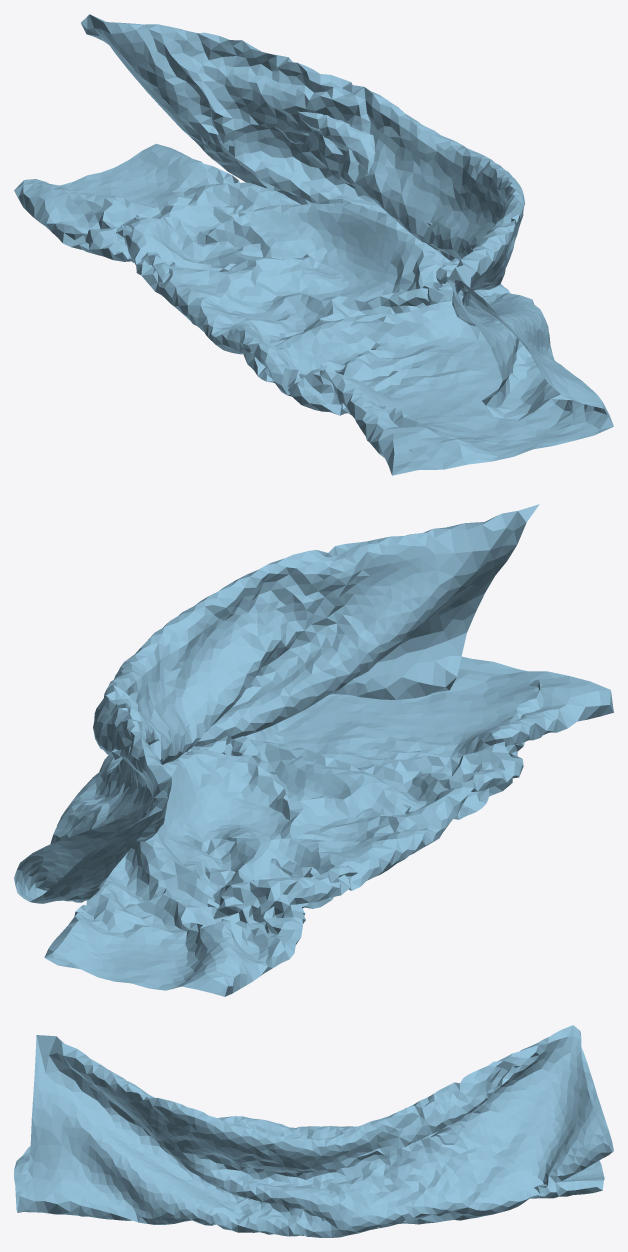
File: frame_17.glb
3 views of the same model, one above another, from view 1: azimuth 30°, elevation 25°; view 2: azimuth 150°, elevation 25°; view 3: azimuth 270°, elevation 25° (orthographic). The views are drawn at different scales.
Visible parts, largest first — view 1: frame_17.obj; view 2: frame_17.obj; view 3: frame_17.obj.
Boxes of the visible parts, x1=… form: frame_17.obj: x1=14, y1=14, x2=613, y2=475; frame_17.obj: x1=14, y1=504, x2=613, y2=996; frame_17.obj: x1=14, y1=1025, x2=613, y2=1237.
Bounding box in the file's own units: 0.735 × 0.4562 × 1.76.
